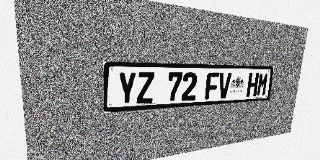2: (182, 72, 197, 101)
7: (166, 72, 183, 102)
F: (205, 72, 220, 99)
H: (246, 73, 259, 97)
M: (256, 73, 269, 96)
V: (217, 72, 232, 99)
Y: (117, 72, 136, 105)
Z: (136, 72, 155, 104)
